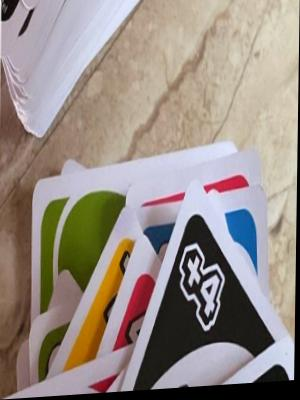wild-4: (175, 235, 235, 350)
